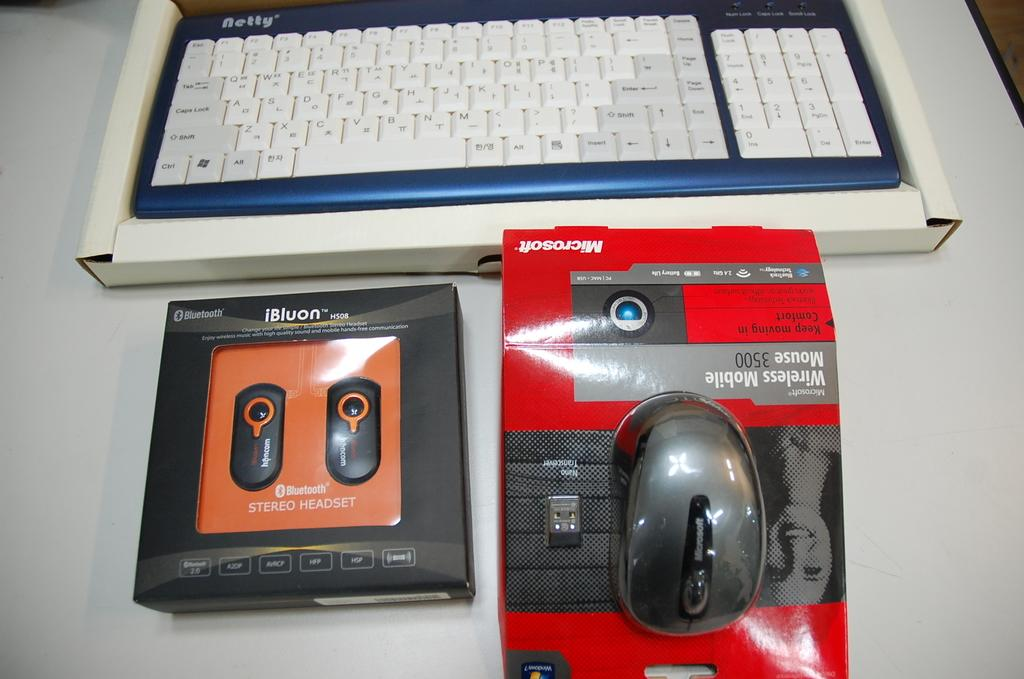Computer-keyboard: (132, 0, 905, 215)
Computer-mouse: (609, 389, 769, 637)
